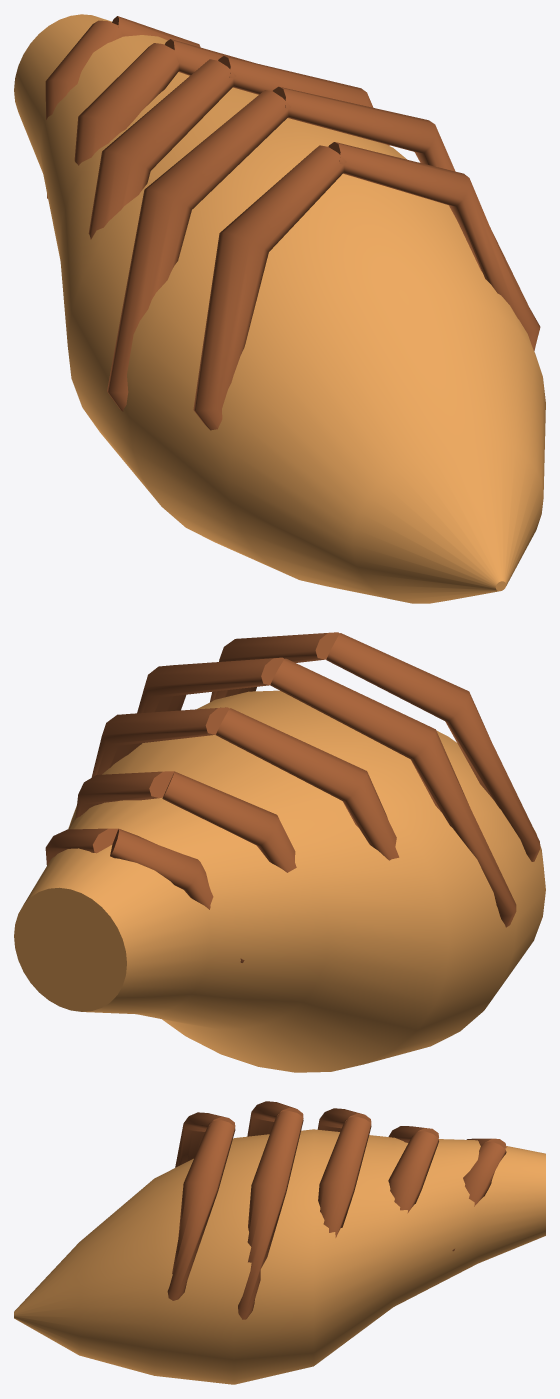
Rendered from kamikaze_sac.glb.
The picture shows the model from 3 angles, top to bottom: view 1: azimuth 30°, elevation 25°; view 2: azimuth 150°, elevation 25°; view 3: azimuth 270°, elevation 25°; orthographic projection. The views are drawn at different scales.
Visible parts, largest first — view 1: kamikaze_sac; view 2: kamikaze_sac; view 3: kamikaze_sac.
Boxes of the visible parts, left/top/right/bottom form: kamikaze_sac: left=14, top=14, right=545, bottom=603; kamikaze_sac: left=14, top=632, right=545, bottom=1072; kamikaze_sac: left=14, top=1101, right=545, bottom=1384.
Size of the model in its own units: 0.6192 by 0.6148 by 1.13.
